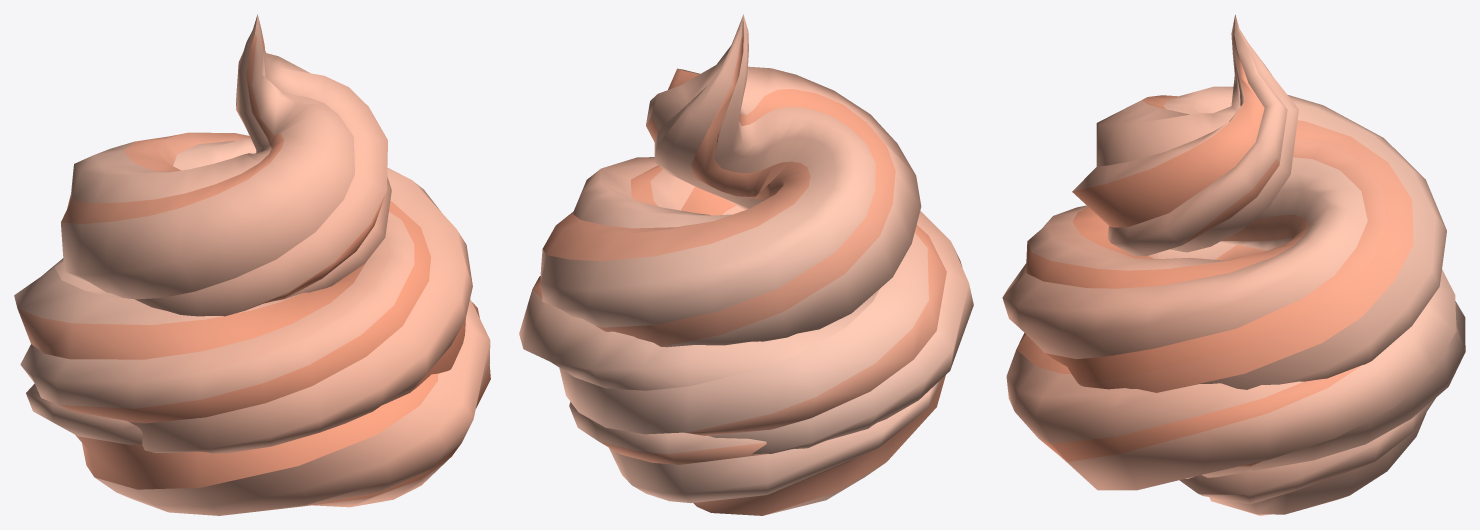
Rendered from Cream_02.fbx.
3 renders of one model, left to right at view 1: azimuth 30°, elevation 25°; view 2: azimuth 150°, elevation 25°; view 3: azimuth 270°, elevation 25°, orthographic. The views are drawn at different scales.
Visible parts, largest first — view 1: Cream_02; view 2: Cream_02; view 3: Cream_02.
Part boxes in pixels (left/top/right/bottom): Cream_02: left=14, top=14, right=490, bottom=515; Cream_02: left=519, top=14, right=973, bottom=515; Cream_02: left=1002, top=14, right=1465, bottom=515.
Size of the model in its own units: 343 by 378 by 341.
